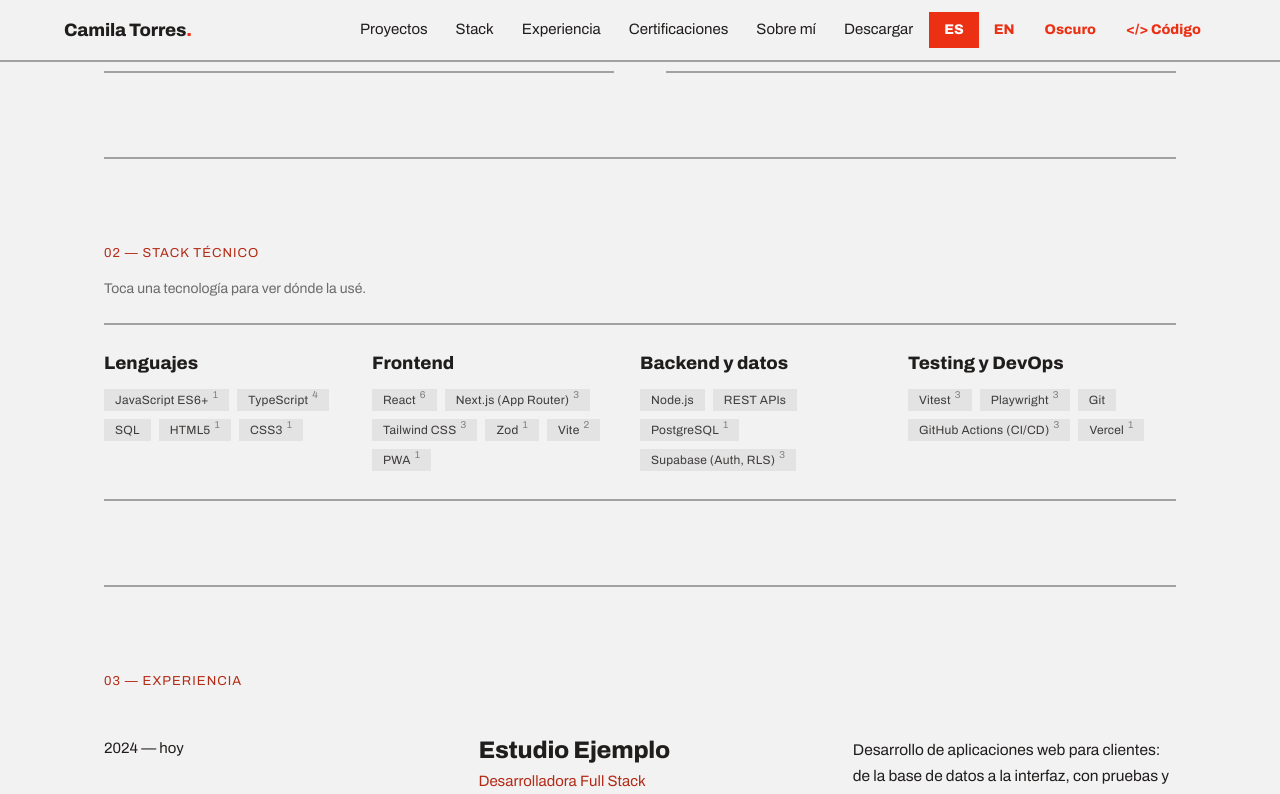
Scenario: SiteRenderer › al tocar una tecnología se atenúan los proyectos que no la usan
(page scrolled)
// Playwright lo usan la app de reservas (1) y este portafolio (2), pero no la tienda (0).
Click the button "Playwright" at (1025, 400), box [980,389,1070,411]
(page scrolled)
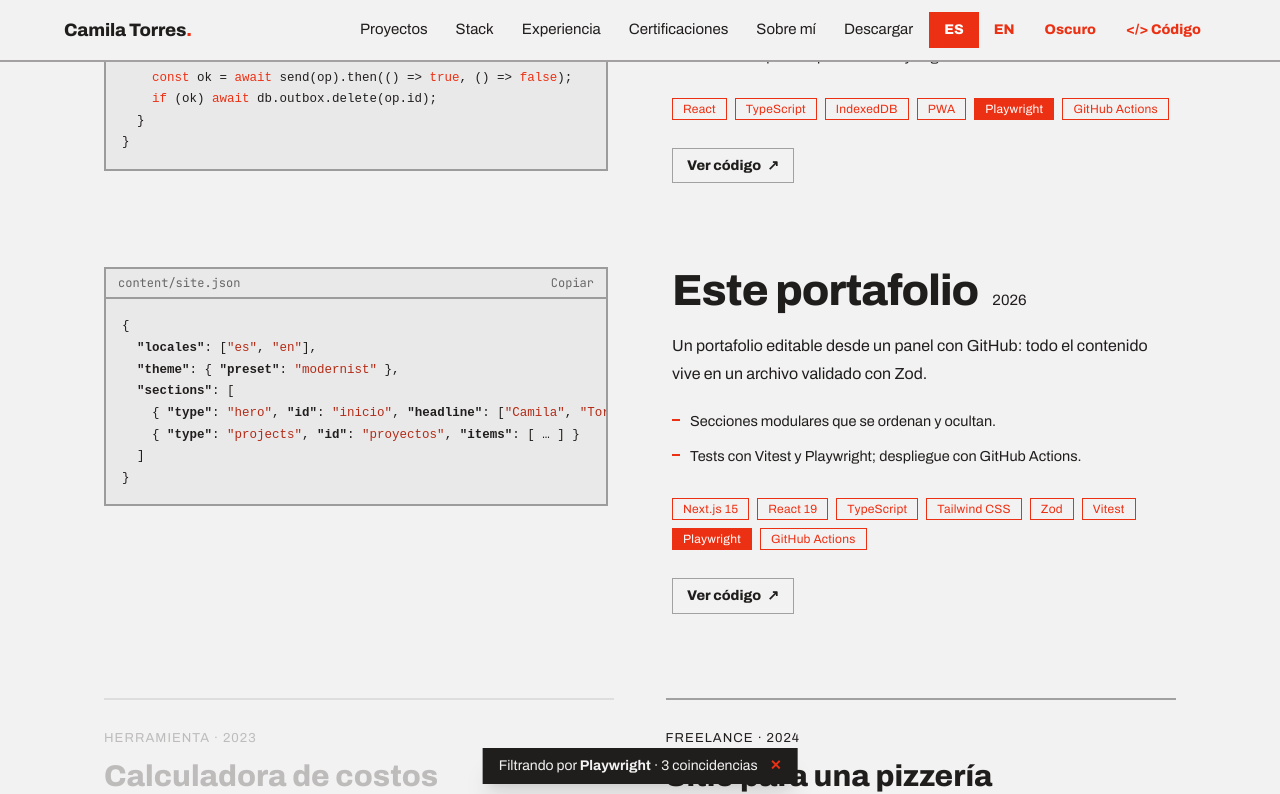
Expected: the message shows "Filtrando por Playwright", [483,748,797,784]
